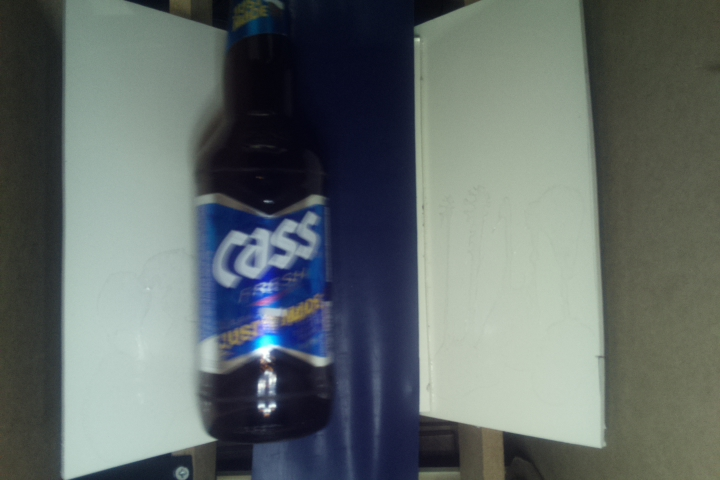makju: (191, 1, 339, 446)
